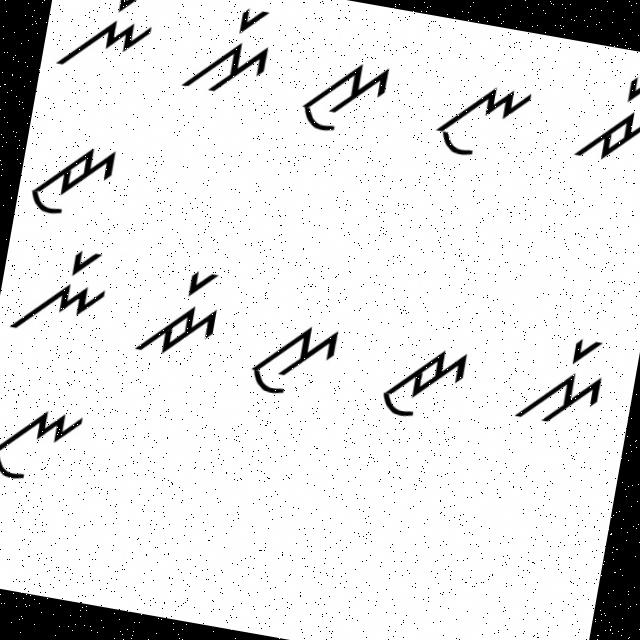jar: (125, 257, 228, 374), (568, 54, 639, 176)
jaw: (372, 328, 472, 433), (22, 132, 120, 230)
nyar: (5, 232, 116, 346), (49, 0, 163, 85)
nyaw: (426, 74, 536, 172), (0, 384, 89, 496)
sar: (508, 314, 618, 438), (170, 0, 280, 106)
saw: (243, 309, 354, 412), (288, 45, 397, 146)
